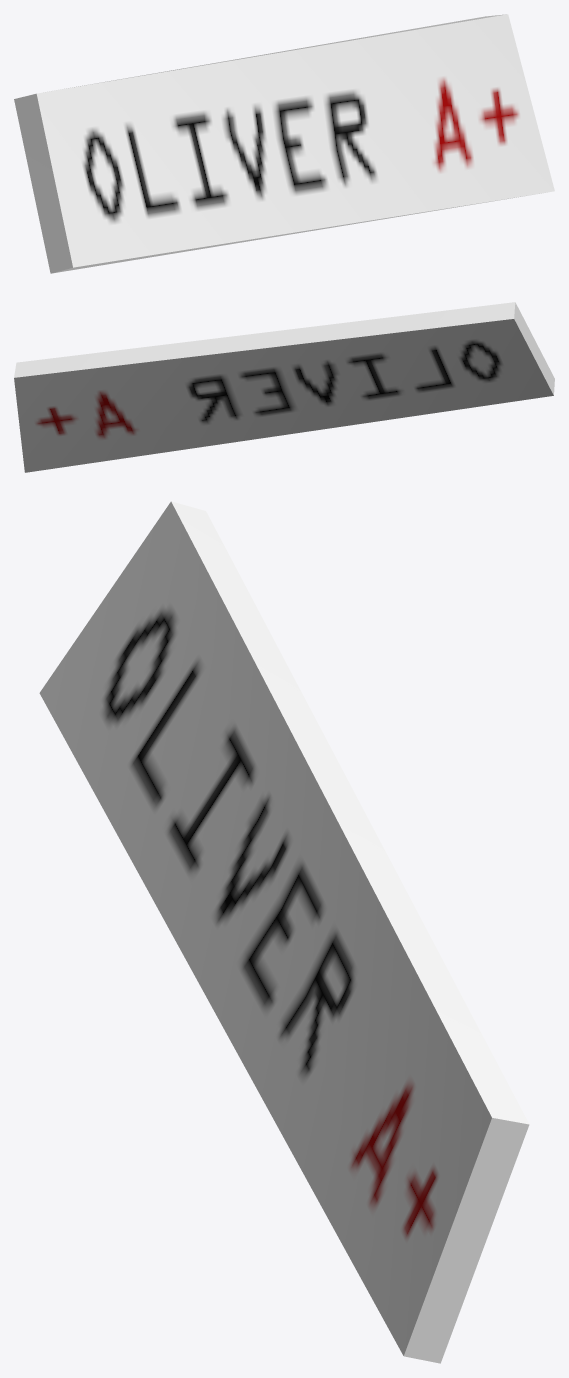
The model's file is PropBadge.FBX.
3 views of the same model, one above another, from view 1: azimuth 30°, elevation 25°; view 2: azimuth 150°, elevation 25°; view 3: azimuth 270°, elevation 25° (orthographic). The views are drawn at different scales.
Visible parts, largest first — view 1: badge; view 2: badge; view 3: badge.
Part boxes in pixels (box(x1,y1,x2,y2)): badge: box(14, 14, 554, 273); badge: box(14, 302, 554, 472); badge: box(39, 501, 529, 1363).
Size of the model in its own units: 0.0782 by 0.0378 by 0.0373.
1 material, 1 textured.
